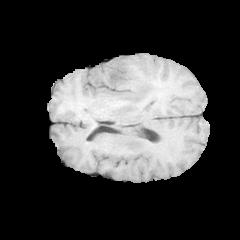glioma: (96, 57, 159, 108)
